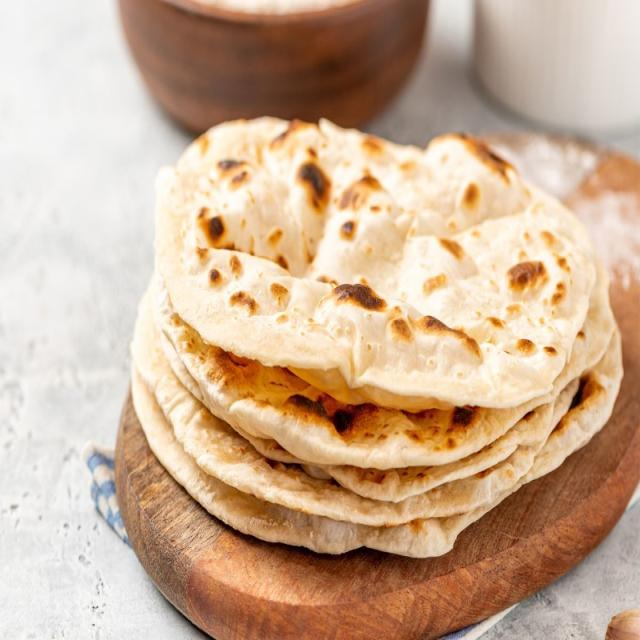ROTI: (127, 279, 621, 554), (155, 122, 607, 406)
